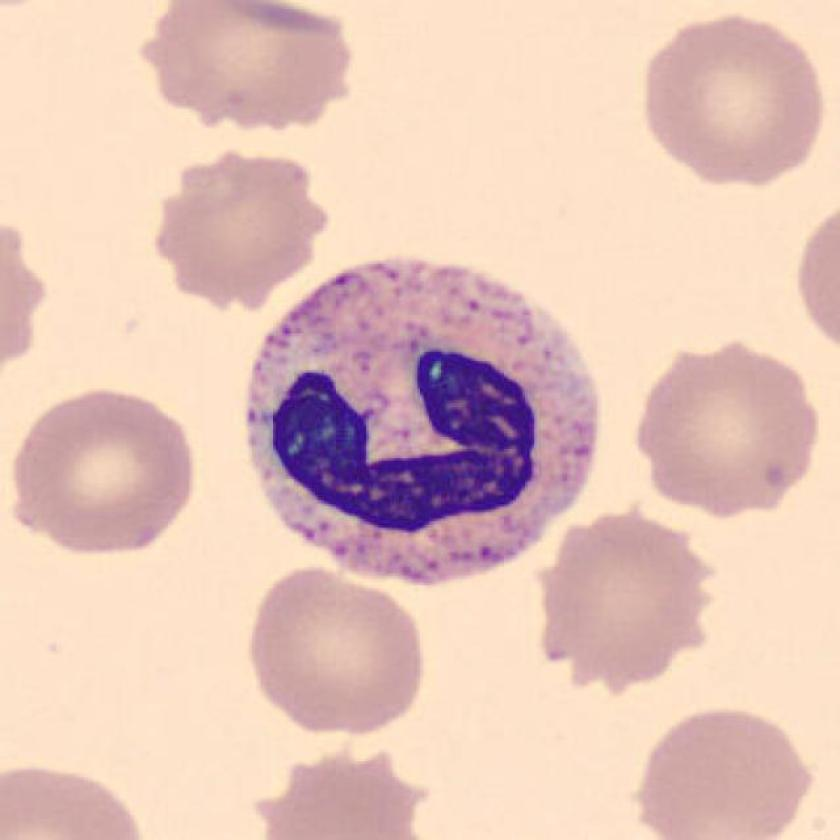neutrophil: (252, 259, 600, 587)
